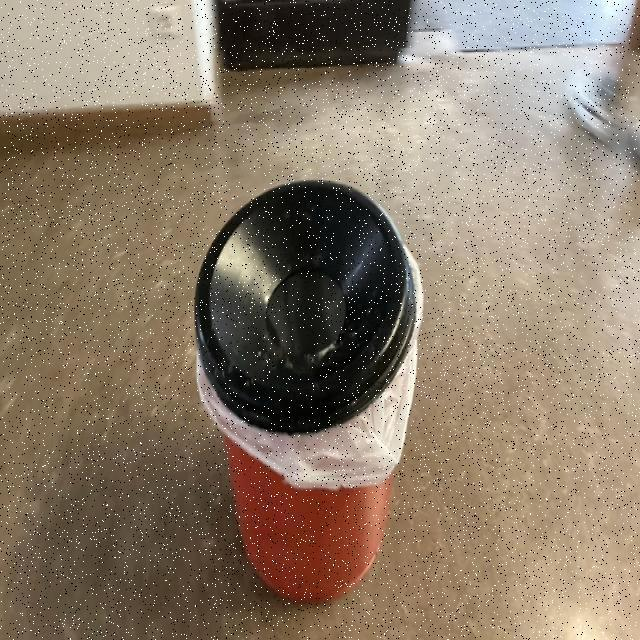garbage container: (187, 164, 448, 640)
